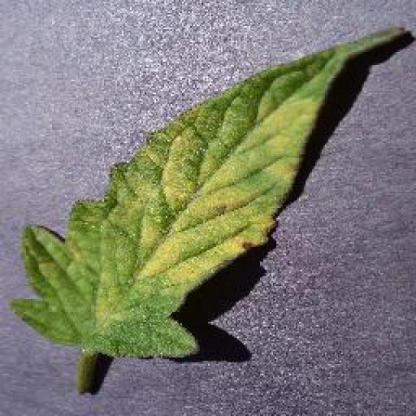Tomato_Leaf_Mold: (13, 26, 406, 359)
